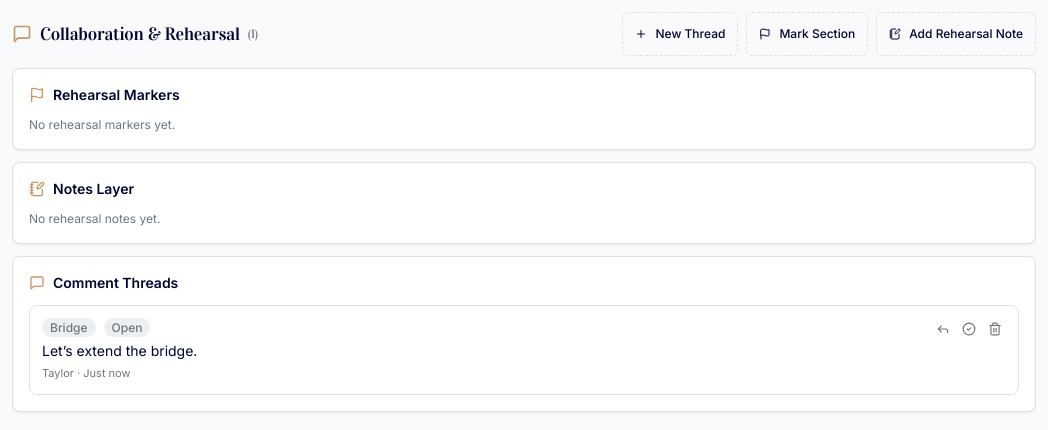
Test: SongCollaborationPanel › resolves a comment thread
What coordinates should you click on to do the following:
click the button titled "resolve thread"
I would click on:
 (969, 329)
Its box is [958,318,980,340].
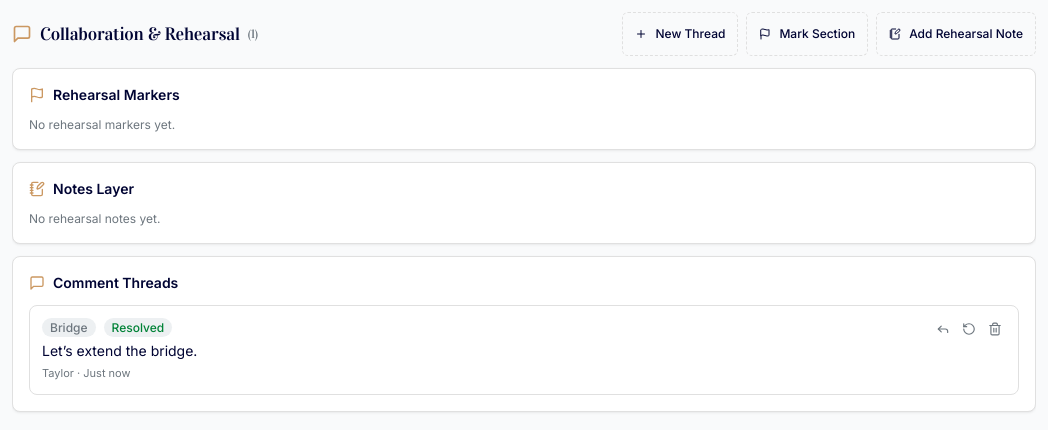
Result: the text "Resolved" is shown at [104,318,172,337]
